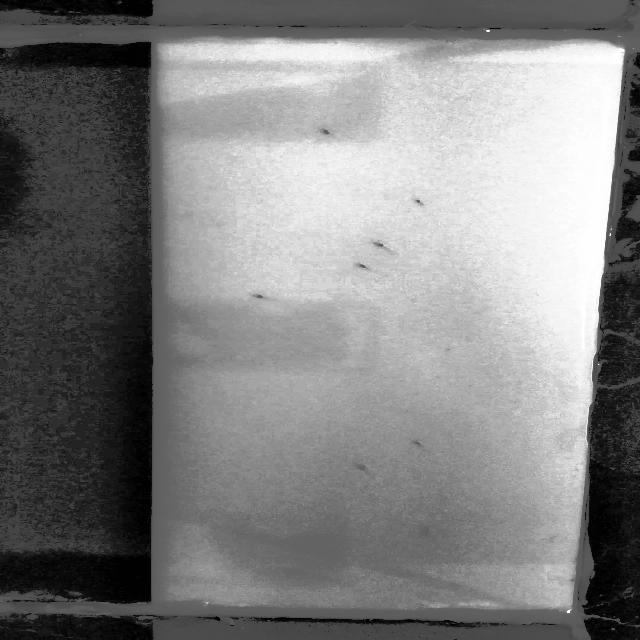shrimp: (404, 438, 438, 452), (355, 463, 376, 479), (355, 262, 381, 274), (418, 525, 439, 536), (248, 290, 270, 300), (358, 235, 361, 238)
